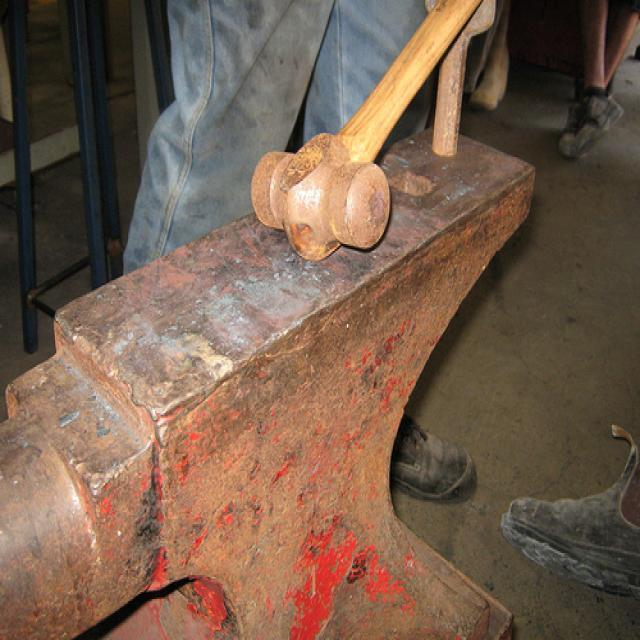hammer: (245, 17, 508, 260)
